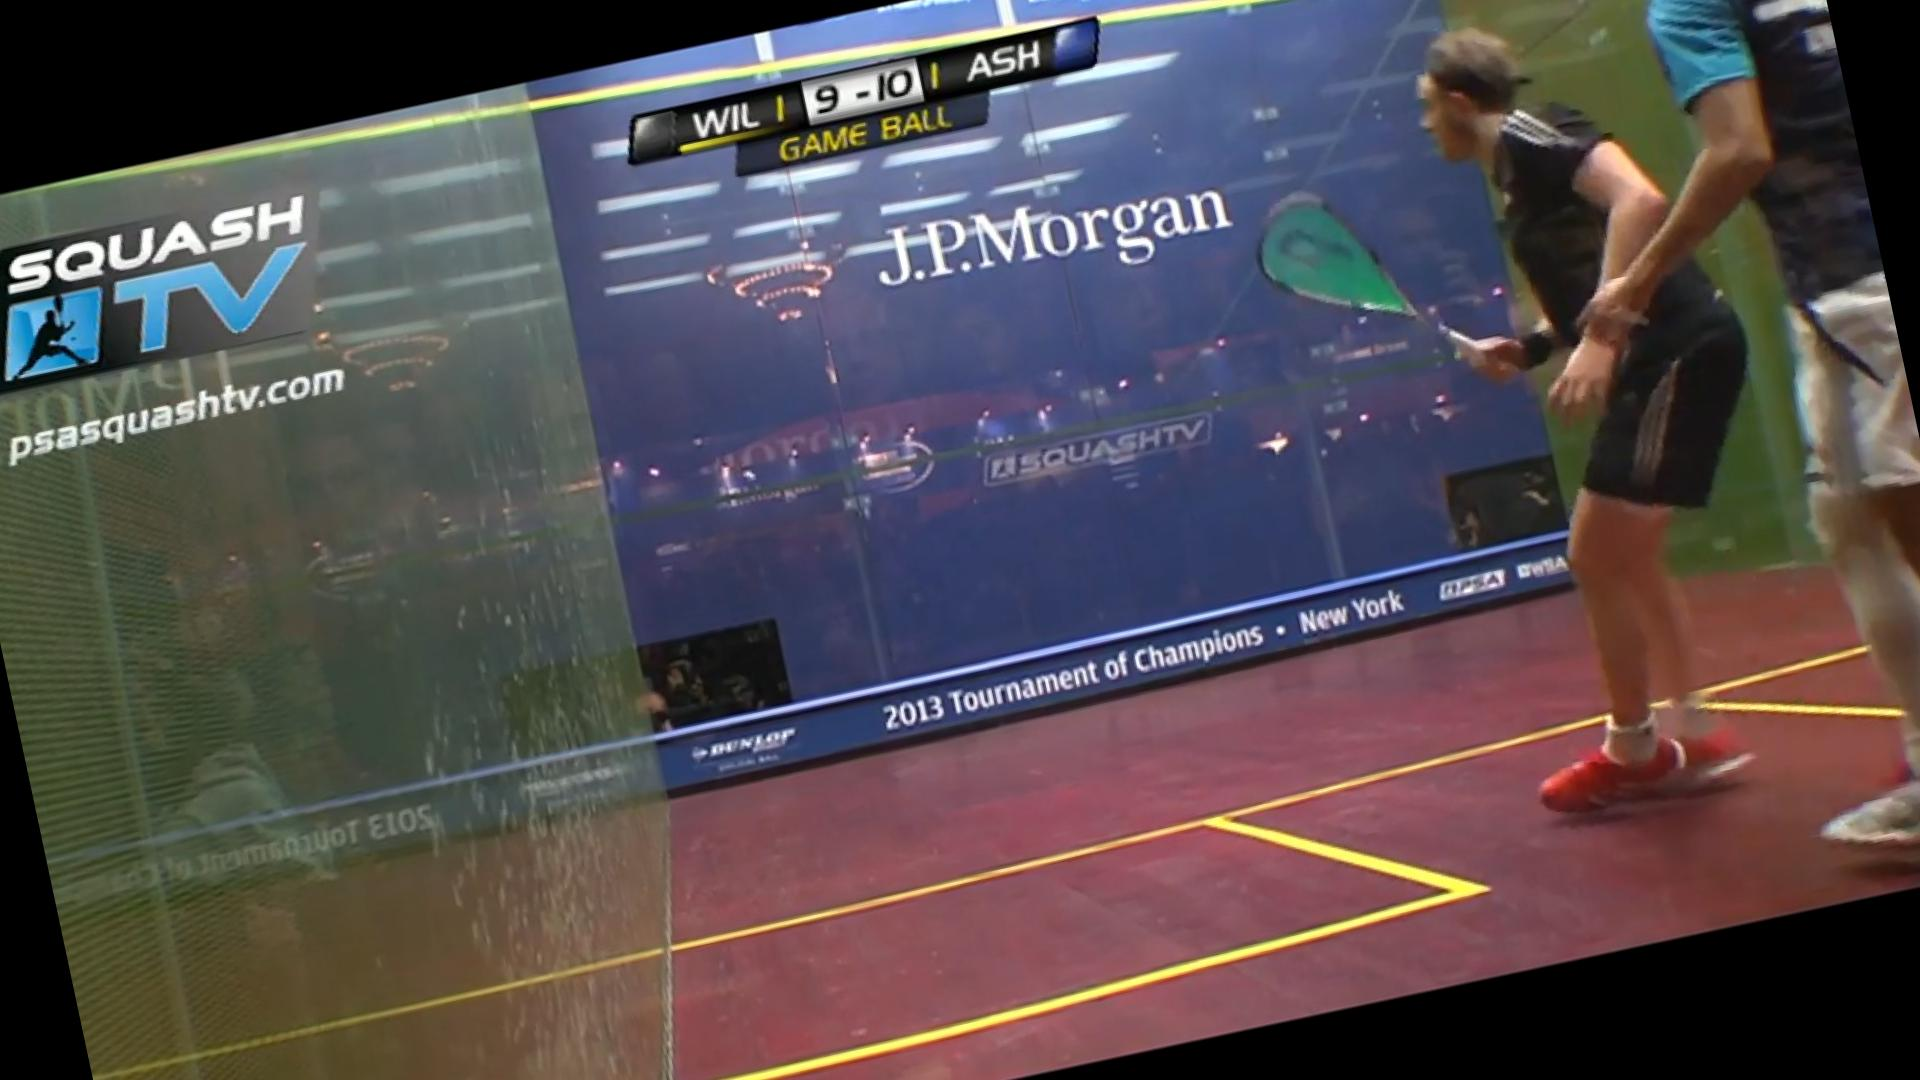Squash-Ball: (731, 443, 767, 489)
